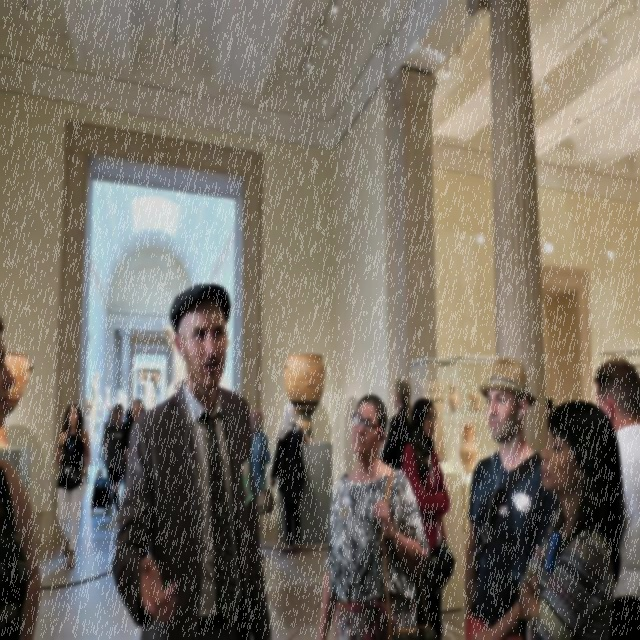pessoa: (110, 282, 272, 640), (311, 390, 434, 640), (464, 354, 562, 640), (516, 400, 628, 640), (0, 308, 44, 640), (592, 356, 640, 640), (402, 396, 452, 640), (270, 401, 316, 556), (53, 400, 92, 570), (380, 376, 414, 470), (103, 400, 126, 524), (249, 407, 272, 516), (120, 396, 144, 489), (98, 406, 115, 481), (138, 369, 157, 412), (89, 366, 100, 426)
